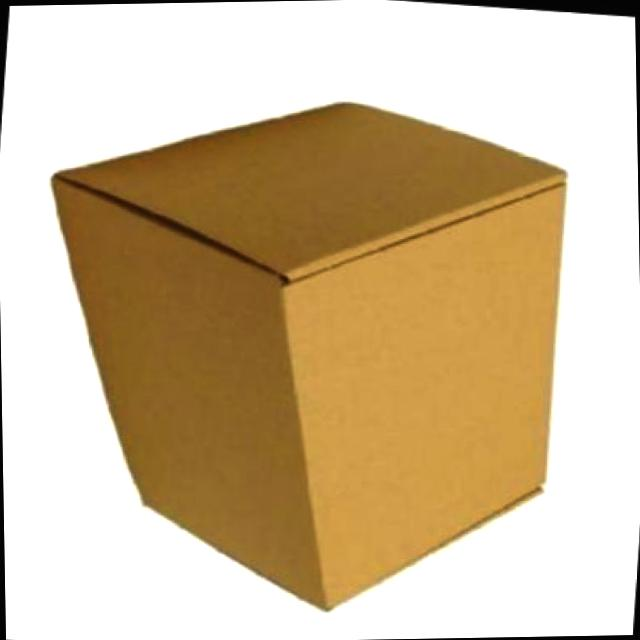box: (8, 62, 584, 637)
